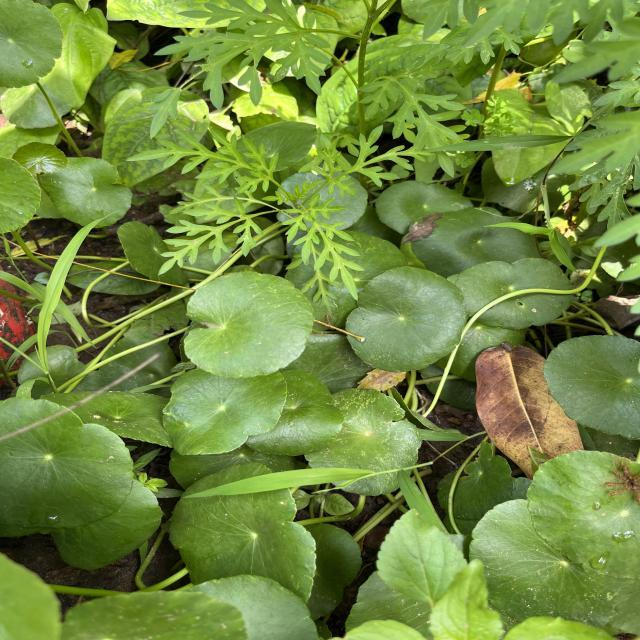Bacopa monnieri: (167, 460, 320, 608), (0, 394, 136, 532), (181, 269, 316, 381), (344, 264, 468, 374), (303, 386, 424, 498), (161, 367, 289, 457), (541, 332, 640, 441)
